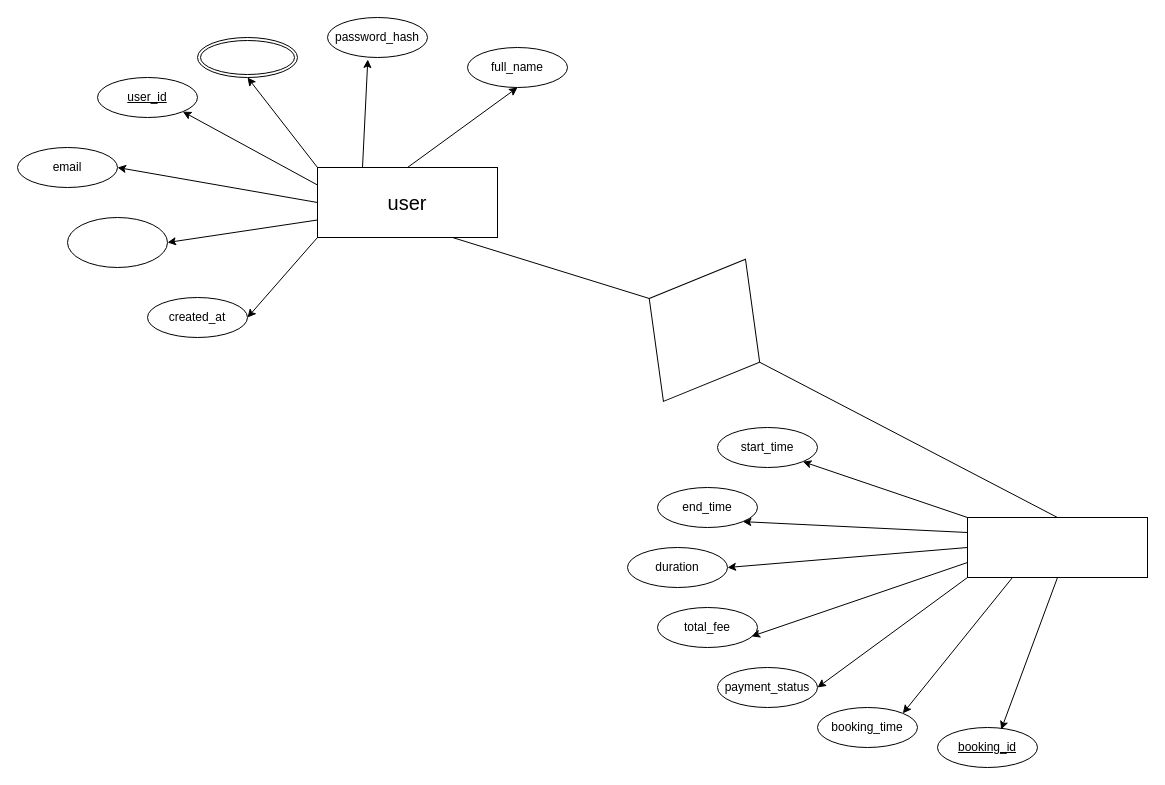
The diagram is 1165 pixels wide and 785 high, and some of its shapes have lost their labels. The shapes that lost their labels are listed below. From the top down, each one's centre as x and y in pixels, then its label:
the point at 247,57: phone_number
the point at 117,242: role
the point at 704,329: Makes
the point at 1057,547: BOOKING
